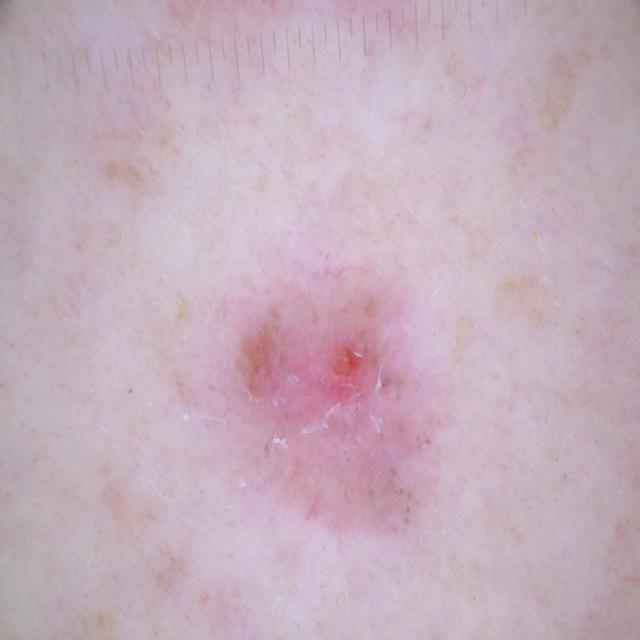Carcinoma: (212, 227, 473, 590)
